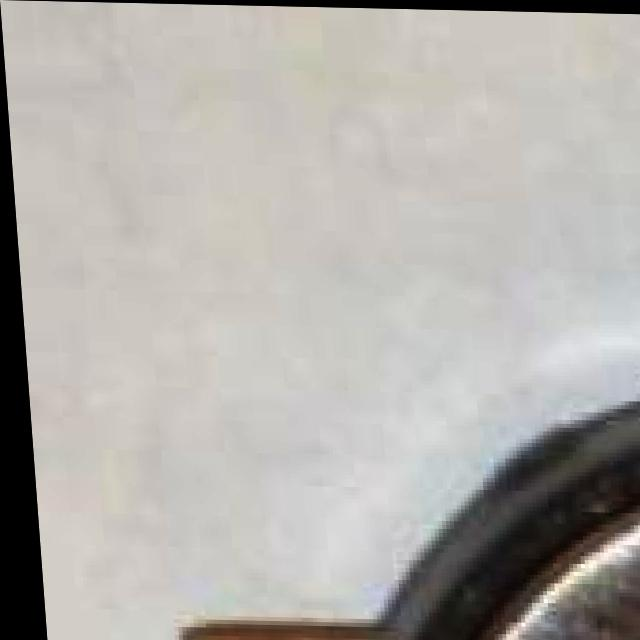battery: (301, 429, 640, 640)
